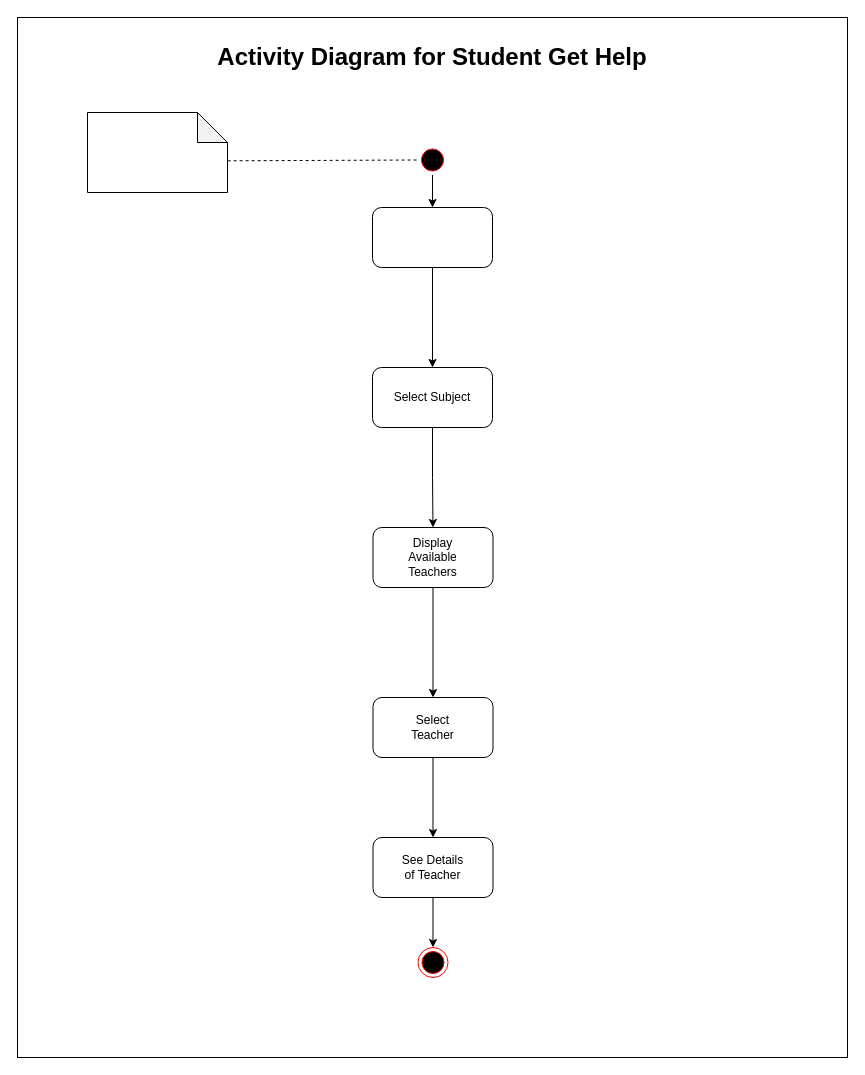
Image size: 865x1075. Some labels were removed from this diagram. The box of each missing label's shape, as (x1, y1, x2, y2) in pixels:
Get Help: (372, 206, 492, 268)
Student Logged in: (86, 112, 228, 192)
